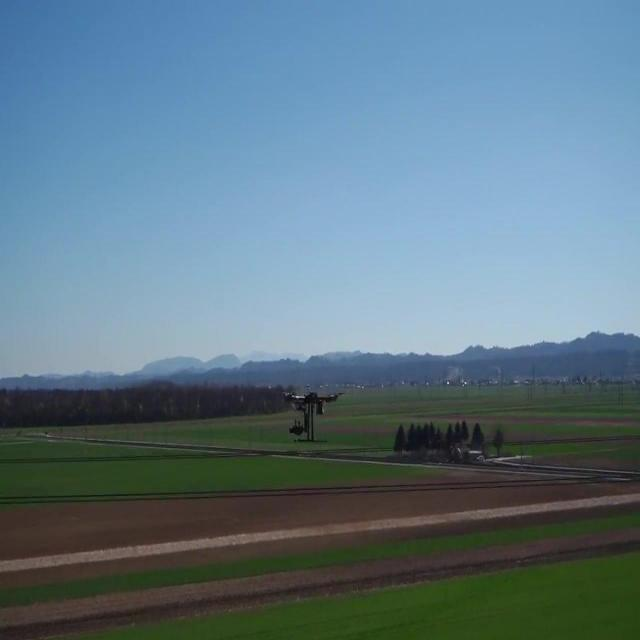UAV: (280, 385, 346, 442)
